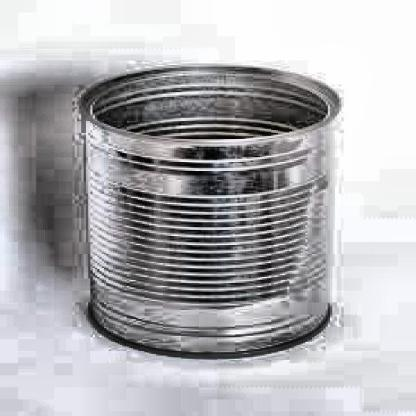Can: (74, 63, 342, 361)
